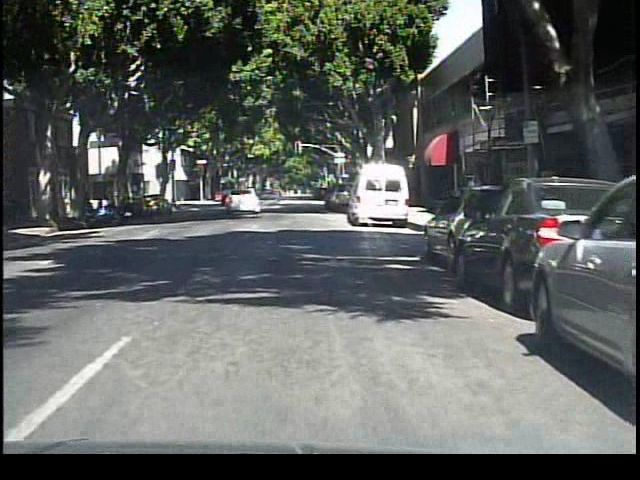person: (459, 167, 487, 227), (267, 177, 288, 210)
